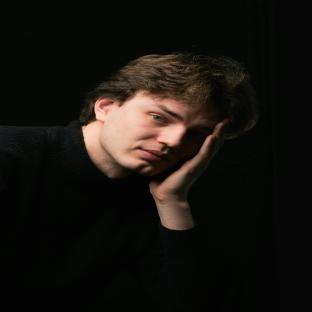Human: (0, 53, 258, 312)
